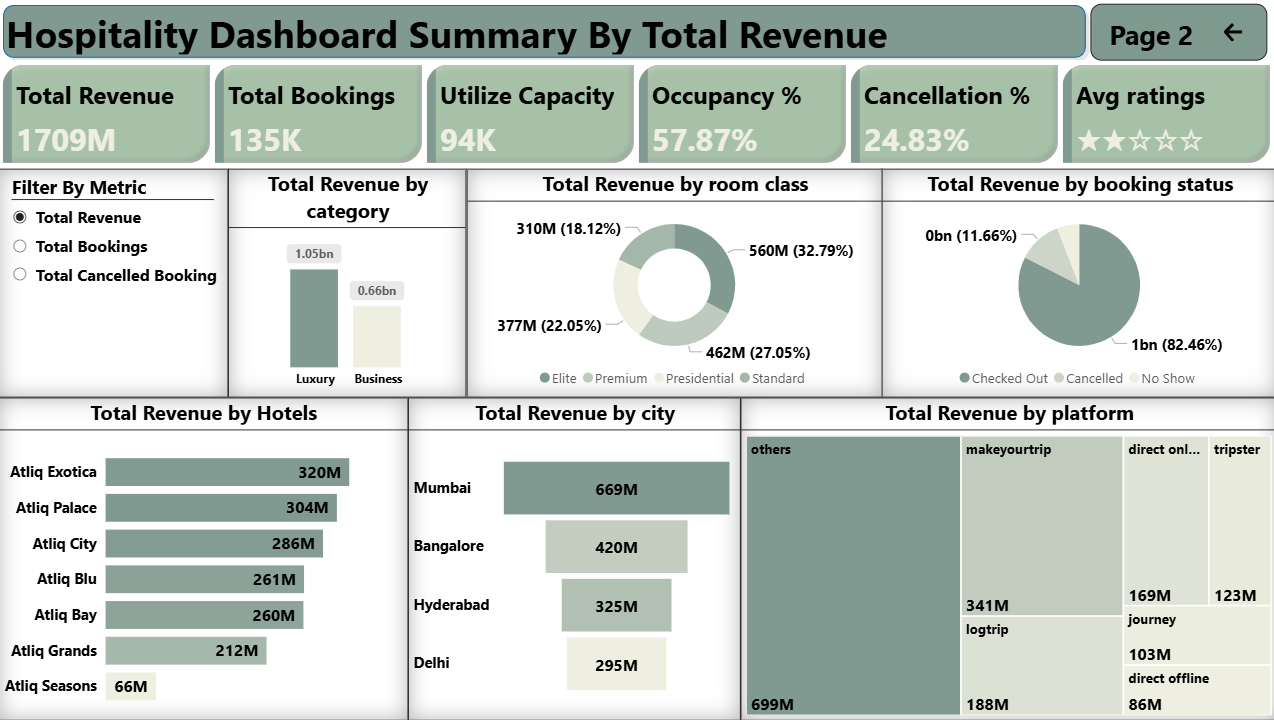

The dashboard page shown, as its layout file describes it:
{"tool":"powerbi","page":{"name":"Page 2","canvas":[1280,720],"ordinal":1},"visuals":[{"type":"shape","box":[0,0,1092.9,62.9],"z":2000},{"type":"cardVisual","fields":{"Data":["Measures Table.Total Revenue","Measures Table.Total Bookings","Measures Table.Utilize Capacity","Measures Table.Occupancy %","Measures Table.Cancellation %","Measures Table.Average of ratings_given star rating"]},"box":[0,60,1280,108.6],"z":3000},{"type":"actionButton","box":[1092.9,4.3,177.1,57.1],"z":4000},{"type":"slicer","fields":{"Values":["metric 1.metric 1"]},"box":[0,168.6,230,228.6],"z":8000},{"type":"treemap","fields":{"Values":["Measures Table.Total Revenue"],"Group":["fact_bookings.booking_platform"]},"box":[742.9,397.1,537.1,322.9],"z":9500},{"type":"donutChart","fields":{"Y":["Measures Table.Total Revenue"],"Category":["dim_rooms.room_class"]},"box":[468.6,168.6,415.7,228.6],"z":10000},{"type":"pieChart","fields":{"Y":["Measures Table.Total Revenue"],"Category":["fact_bookings.booking_status"]},"box":[884.3,168.6,395.7,228.6],"z":10500},{"type":"clusteredColumnChart","fields":{"Y":["Measures Table.Total Revenue"],"Category":["dim_hotels.category"]},"box":[230,168.6,238.6,228.6],"z":11000},{"type":"barChart","fields":{"Y":["Measures Table.Total Revenue"],"Category":["dim_hotels.property_name"]},"box":[0,397.1,410,322.9],"z":11500},{"type":"funnel","fields":{"Y":["Measures Table.Total Revenue"],"Category":["dim_hotels.city"]},"box":[410,397.1,332.9,322.9],"z":12000}]}

Visuals, with their boxes in screenshot pixels (x1, y1, x2, y2), scaled from the page's 1280x720 canvas onto the 1274x720 screenshot:
shape: <region>0, 0, 1088, 63</region>
cardVisual - Measures Table.Total Revenue x Measures Table.Total Bookings: <region>0, 60, 1273, 169</region>
actionButton: <region>1088, 4, 1264, 61</region>
slicer - metric 1.metric 1: <region>0, 169, 229, 397</region>
treemap - Measures Table.Total Revenue x fact_bookings.booking_platform: <region>739, 397, 1273, 719</region>
donutChart - Measures Table.Total Revenue x dim_rooms.room_class: <region>466, 169, 880, 397</region>
pieChart - Measures Table.Total Revenue x fact_bookings.booking_status: <region>880, 169, 1273, 397</region>
clusteredColumnChart - Measures Table.Total Revenue x dim_hotels.category: <region>229, 169, 466, 397</region>
barChart - Measures Table.Total Revenue x dim_hotels.property_name: <region>0, 397, 408, 719</region>
funnel - Measures Table.Total Revenue x dim_hotels.city: <region>408, 397, 739, 719</region>
